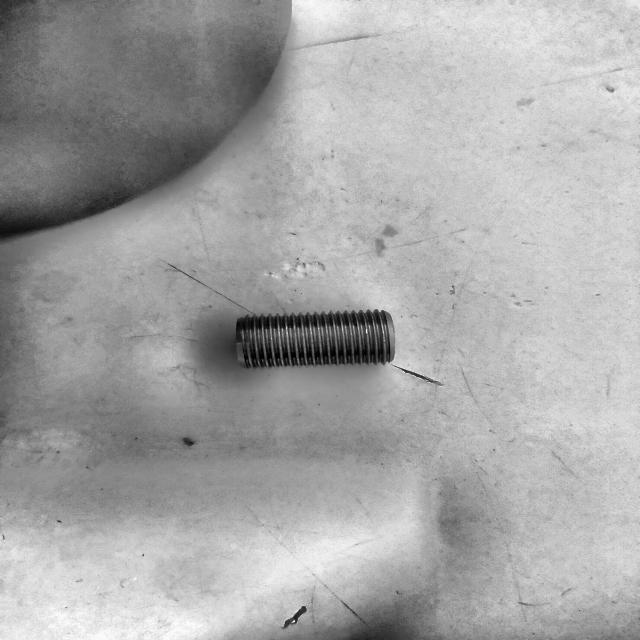Normal: (235, 308, 396, 371)
